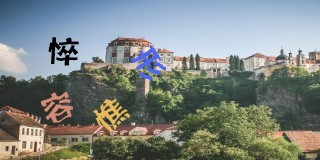容: (40, 90, 73, 124)
形: (131, 45, 166, 80)
悴: (47, 36, 79, 66)
憔: (93, 97, 131, 132)
